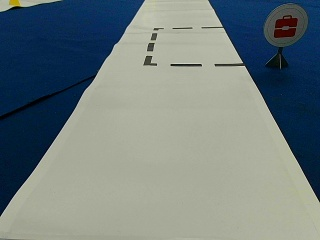company: (264, 4, 308, 46)
